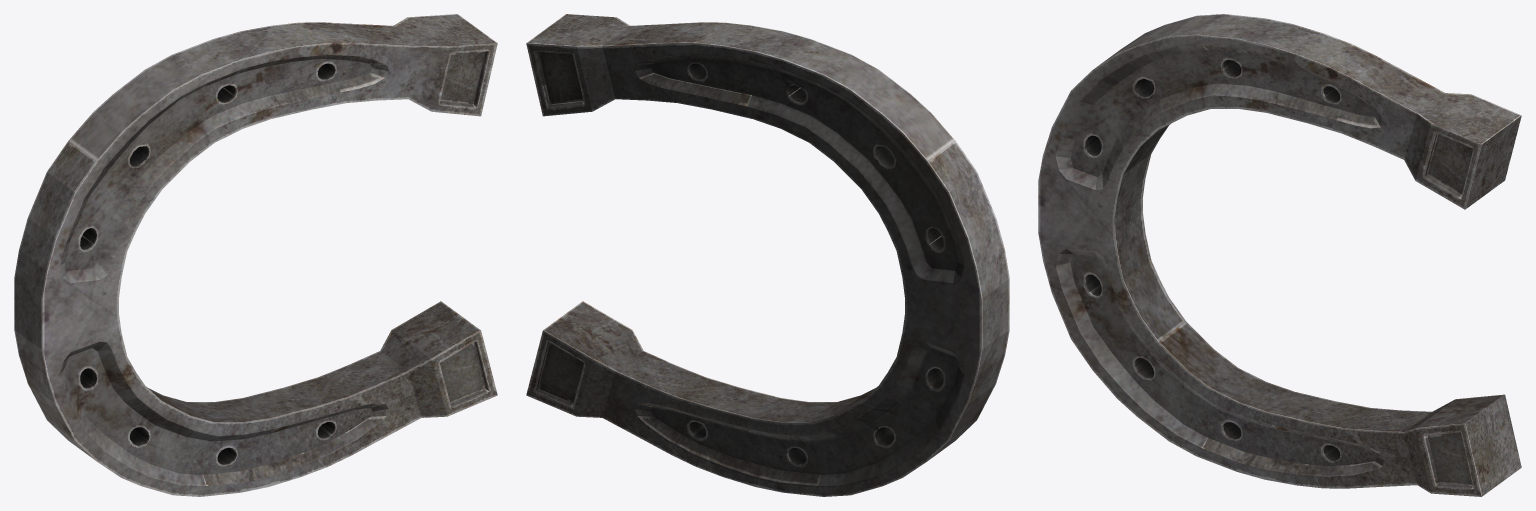
The model's file is HorseShoe01.obj.
3 renders of one model, left to right at view 1: azimuth 30°, elevation 25°; view 2: azimuth 150°, elevation 25°; view 3: azimuth 330°, elevation 25°, orthographic.
Visible parts, largest first — view 1: Cube; view 2: Cube; view 3: Cube.
Boxes of the visible parts, x1,y1,x2,y2 form: Cube: (14,14,497,496); Cube: (526,14,1009,496); Cube: (1038,14,1521,496).
Size of the model in its own units: 131 by 122 by 20.29.
